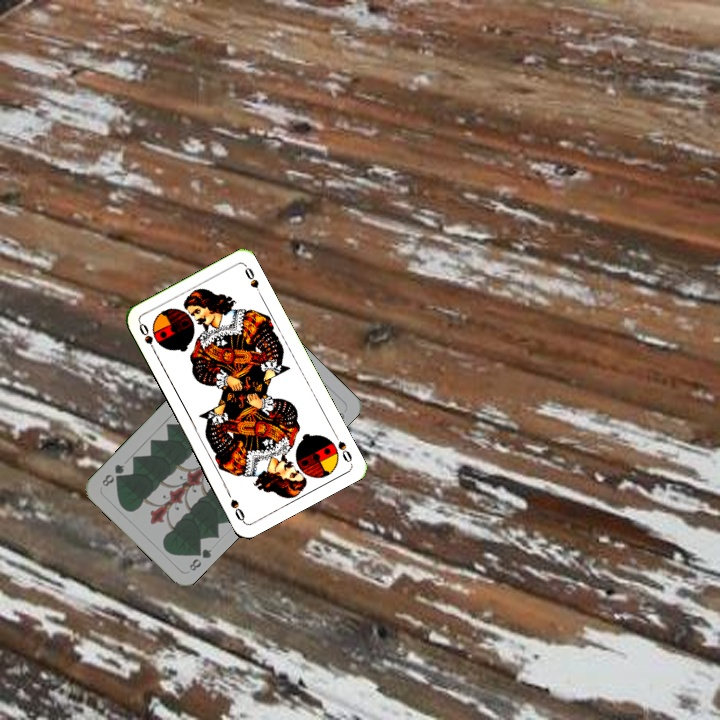G8: (185, 543, 214, 574)
SO: (330, 428, 355, 466), (135, 319, 159, 357)
